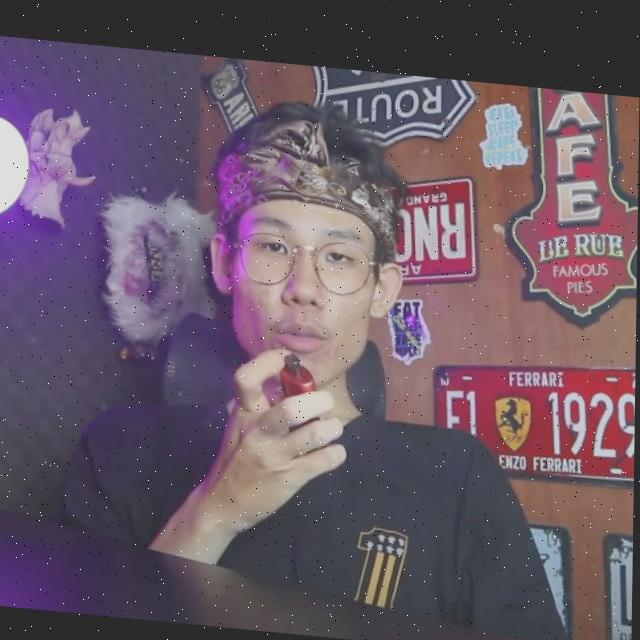vape: (280, 346, 318, 394)
